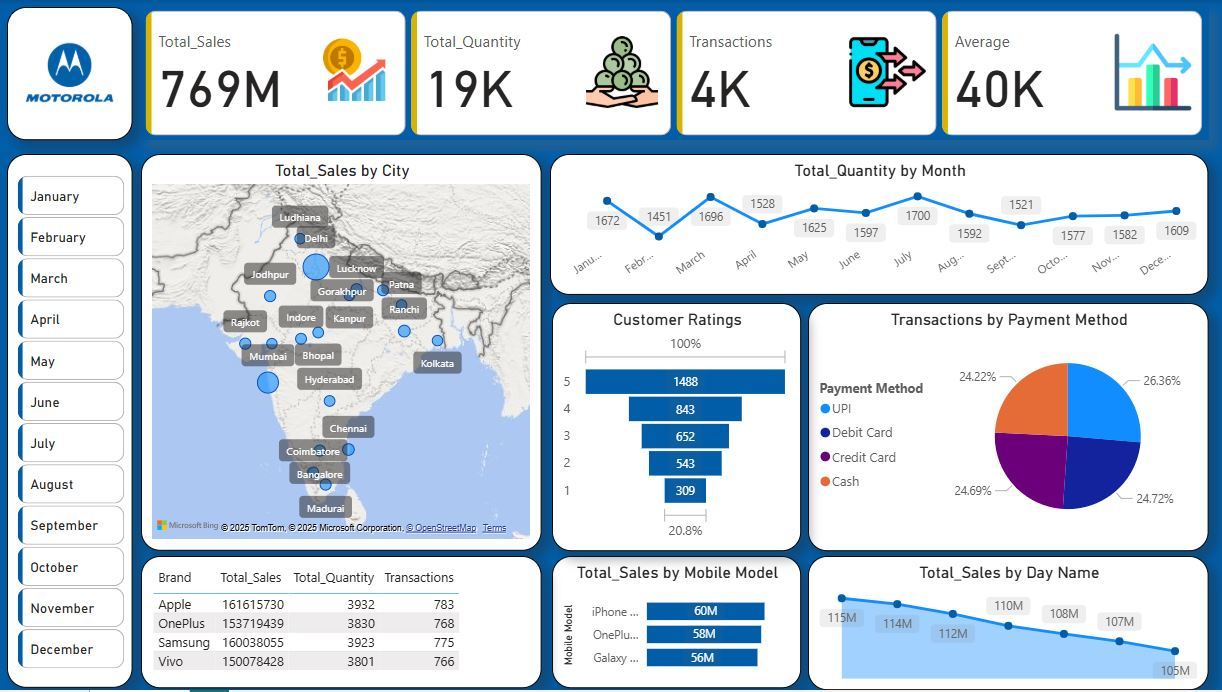

This screenshot's page, from the dashboard's own definition file:
{"tool":"powerbi","page":{"name":"Dashboard","canvas":[1280,720],"ordinal":0},"visuals":[{"type":"shape","box":[10.2,7.6,131.3,139],"z":0},{"type":"image","box":[10.2,5.1,131.3,140.2],"z":1000},{"type":"shape","box":[10.2,160.6,131.3,557.1],"z":2000},{"type":"advancedSlicerVisual","fields":{"Values":["Mobile_Sales_Data.Date.Variation.Date Hierarchy.Month"]},"box":[16.6,178.5,121.1,527.8],"z":3000},{"type":"cardVisual","fields":{"Data":["Mobile_Sales_Data.Total_Sales","Mobile_Sales_Data.Total_Quantity","Mobile_Sales_Data.Transactions","Mobile_Sales_Data.Average"]},"box":[150.4,6.4,1114.3,140.2],"z":4000},{"type":"map","fields":{"Category":["Mobile_Sales_Data.City"],"Size":["Mobile_Sales_Data.Total_Sales"]},"box":[150.4,160.6,418.2,414.3],"z":5000},{"type":"lineChart","fields":{"Y":["Mobile_Sales_Data.Total_Quantity"],"Category":["Mobile_Sales_Data.Date.Variation.Date Hierarchy.Month","Mobile_Sales_Data.Date.Variation.Date Hierarchy.Day"]},"box":[577.5,160.6,687.2,146.6],"z":6000},{"type":"clusteredBarChart","fields":{"Category":["Mobile_Sales_Data.Mobile Model"],"Y":["Mobile_Sales_Data.Total_Sales"]},"box":[578.8,580.1,260.1,137.7],"z":7000},{"type":"pieChart","fields":{"Category":["Mobile_Sales_Data.Payment Method"],"Y":["Mobile_Sales_Data.Transactions"]},"box":[846.5,316.2,418.2,258.8],"z":8000},{"type":"funnel","title":"Customer Ratings ","fields":{"Category":["Mobile_Sales_Data.Customer Ratings"],"Y":["CountNonNull(Mobile_Sales_Data.Customer Ratings)"]},"box":[578.8,316.2,260.1,258.8],"z":9000},{"type":"areaChart","fields":{"Category":["Mobile_Sales_Data.Day Name"],"Y":["Mobile_Sales_Data.Total_Sales"]},"box":[846.5,580.1,418.2,140.2],"z":10000},{"type":"tableEx","fields":{"Values":["Mobile_Sales_Data.Brand","Mobile_Sales_Data.Total_Sales","Mobile_Sales_Data.Total_Quantity","Mobile_Sales_Data.Transactions"]},"box":[150.4,580.1,418.2,137.7],"z":11000}]}

Visuals, with their boxes in screenshot pixels (x1, y1, x2, y2), scaled from the page's 1280x720 canvas onto the 1222x692 screenshot:
shape: [10, 7, 135, 141]
image: [10, 5, 135, 140]
shape: [10, 154, 135, 690]
advancedSlicerVisual - Mobile_Sales_Data.Date.Variation.Date Hierarchy.Month: [16, 172, 131, 679]
cardVisual - Mobile_Sales_Data.Total_Sales x Mobile_Sales_Data.Total_Quantity: [144, 6, 1207, 141]
map - Mobile_Sales_Data.City x Mobile_Sales_Data.Total_Sales: [144, 154, 543, 553]
lineChart - Mobile_Sales_Data.Total_Quantity x Mobile_Sales_Data.Date.Variation.Date Hierarchy.Month: [551, 154, 1207, 295]
clusteredBarChart - Mobile_Sales_Data.Mobile Model x Mobile_Sales_Data.Total_Sales: [553, 558, 801, 690]
pieChart - Mobile_Sales_Data.Payment Method x Mobile_Sales_Data.Transactions: [808, 304, 1207, 553]
"Customer Ratings " funnel: [553, 304, 801, 553]
areaChart - Mobile_Sales_Data.Day Name x Mobile_Sales_Data.Total_Sales: [808, 558, 1207, 691]
tableEx - Mobile_Sales_Data.Brand x Mobile_Sales_Data.Total_Sales: [144, 558, 543, 690]
